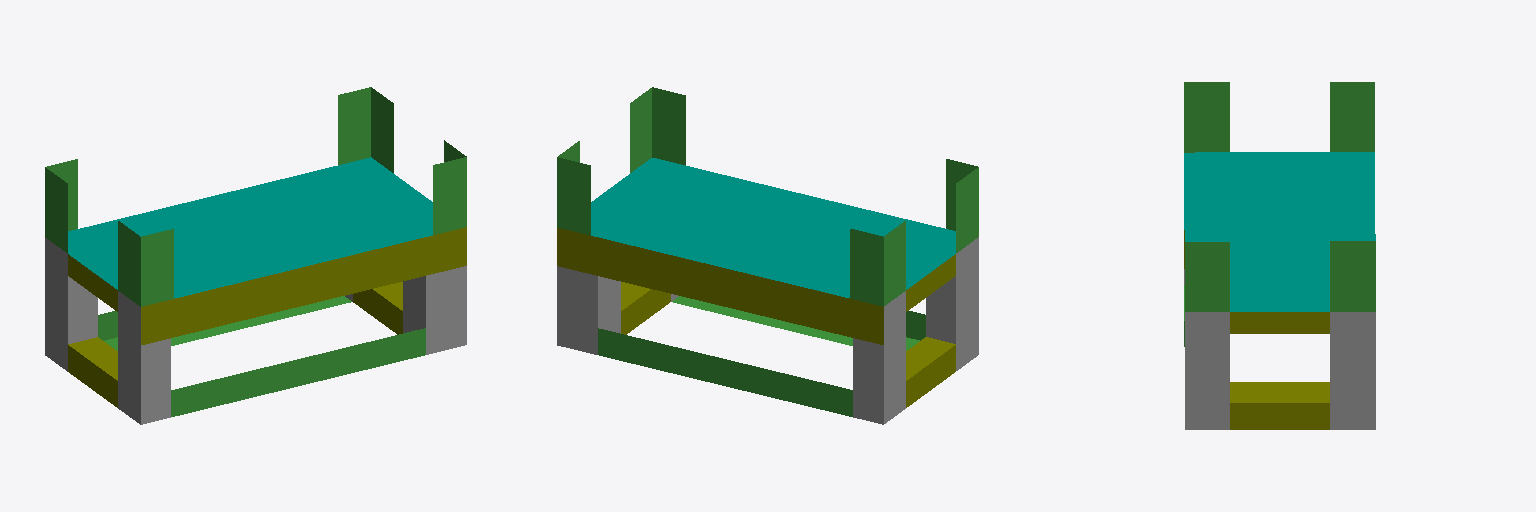
File: tunnel3.obj
3 renders of one model, left to right at view 1: azimuth 30°, elevation 25°; view 2: azimuth 150°, elevation 25°; view 3: azimuth 270°, elevation 25°, orthographic.
Parts seen in each view (by area): view 1: Plane.009; view 2: Plane.009; view 3: Plane.009.
Boxes of the visible parts, x1=… form: Plane.009: x1=45, y1=87, x2=466, y2=424; Plane.009: x1=557, y1=87, x2=978, y2=424; Plane.009: x1=1184, y1=82, x2=1375, y2=429.
Bounding box in the file's own units: 389 × 214 × 198.